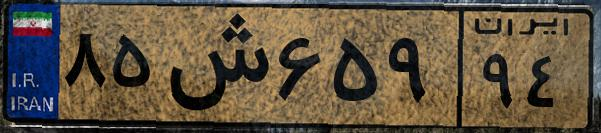4: (525, 38, 570, 115)
5: (330, 28, 385, 110), (110, 28, 158, 98)
6: (270, 28, 330, 110)
8: (57, 26, 110, 100)
9: (385, 28, 445, 110), (475, 38, 525, 113)
ش: (158, 12, 270, 120)
